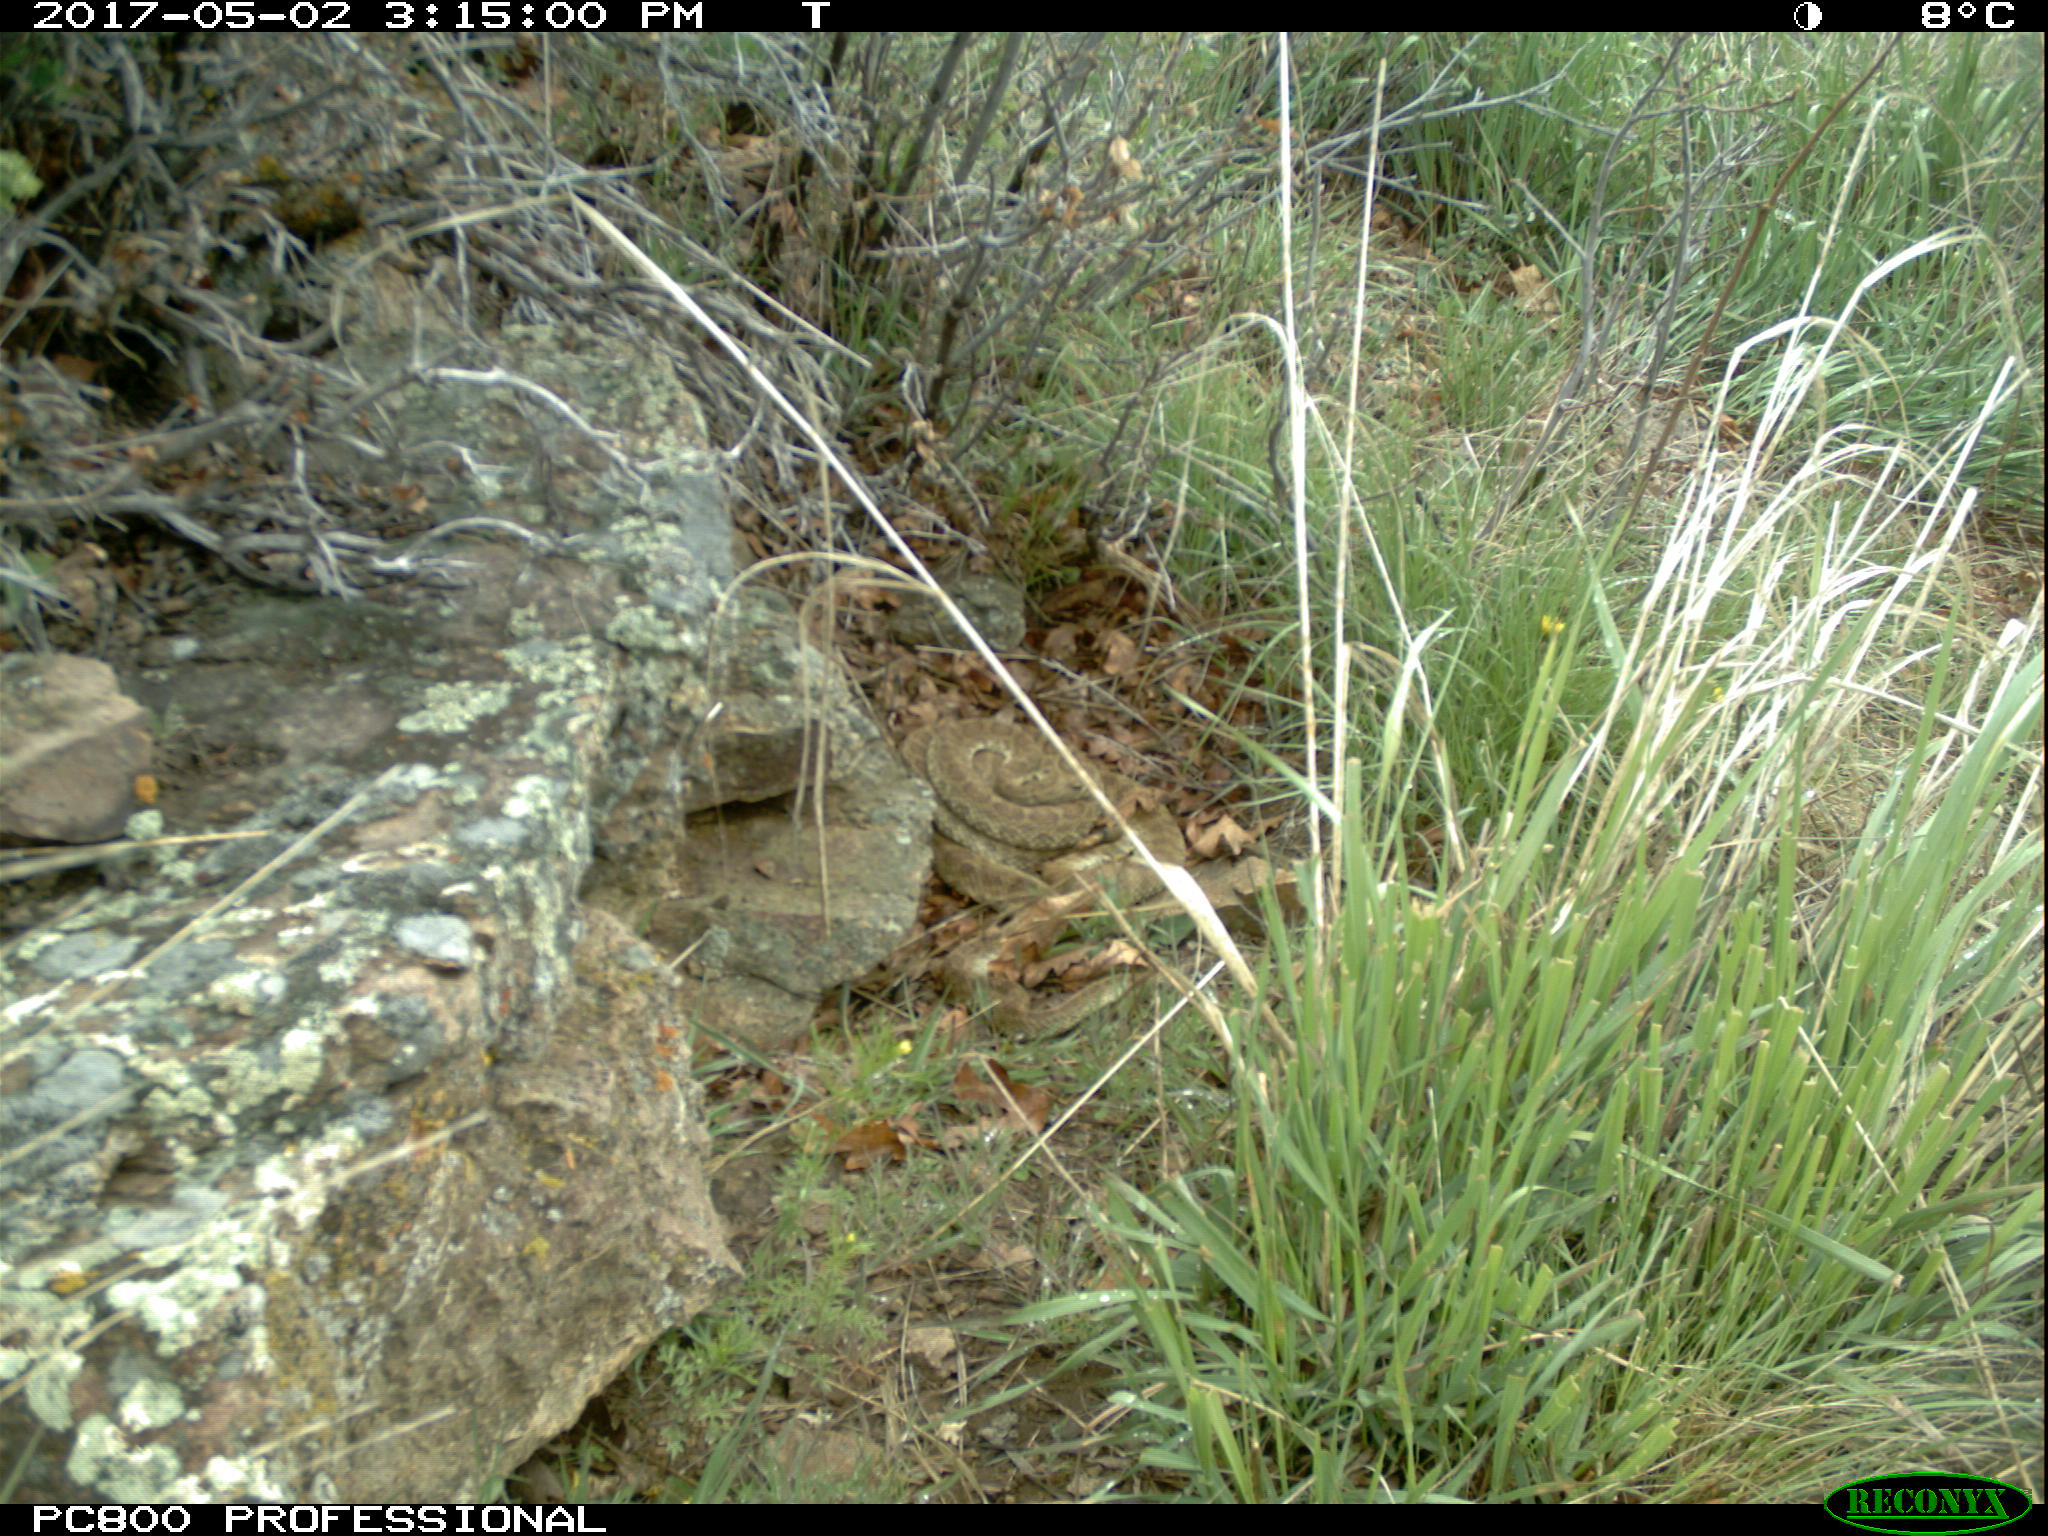snake: (901, 720, 1171, 1023)
